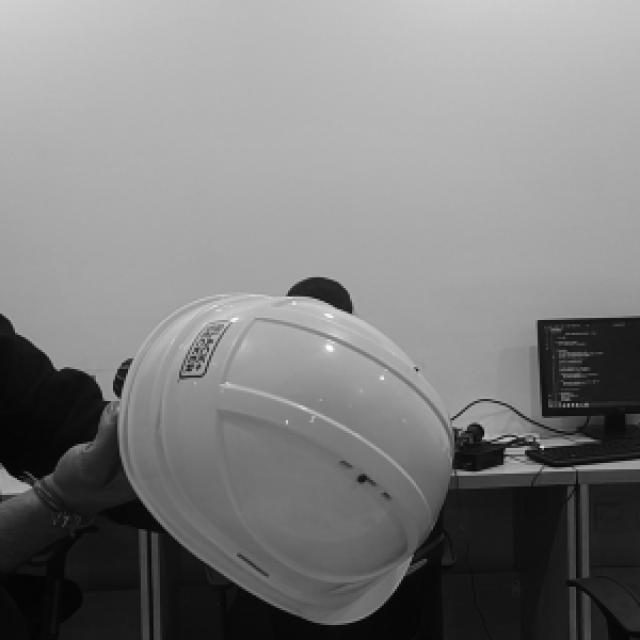safety_helmet: (118, 295, 452, 624)
